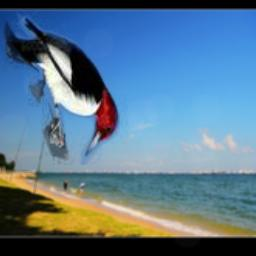Woodpecker: (2, 9, 132, 165)
